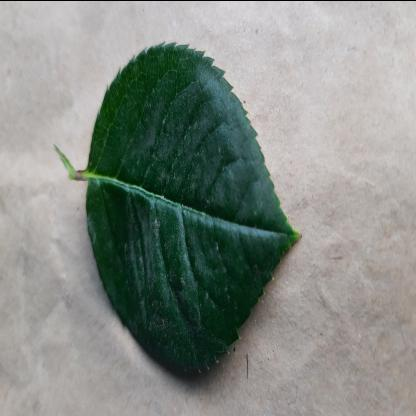normal: (85, 40, 301, 390)
